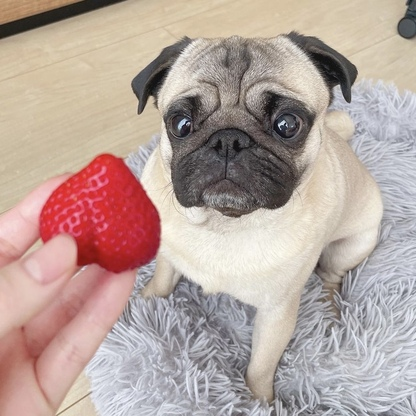Pug: (128, 27, 388, 407)
